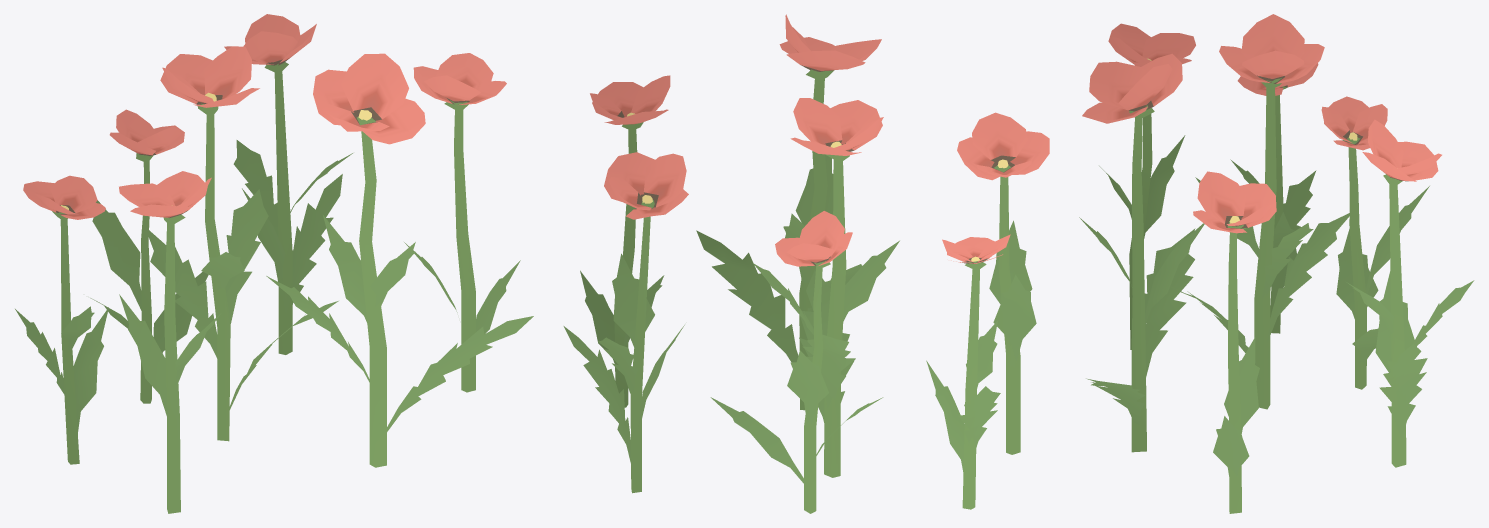
Rendered from Flower_151.glb.
3 renders of one model, left to right at view 1: azimuth 30°, elevation 25°; view 2: azimuth 150°, elevation 25°; view 3: azimuth 270°, elevation 25°, orthographic. The views are drawn at different scales.
Visible parts, largest first — view 1: SM_Env_Wildflowers_03_LOD1; view 2: SM_Env_Wildflowers_03_LOD1; view 3: SM_Env_Wildflowers_03_LOD1.
Part boxes in pixels (x1,y1,x2,y2): SM_Env_Wildflowers_03_LOD1: (15, 14, 533, 513); SM_Env_Wildflowers_03_LOD1: (563, 14, 1049, 513); SM_Env_Wildflowers_03_LOD1: (1079, 14, 1474, 513).
Bounding box in the file's own units: 0.5663 × 0.4715 × 0.4346.
Materials: 1 (1 with a texture image).
